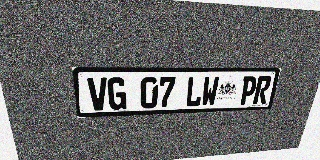0: (140, 77, 158, 109)
7: (157, 77, 176, 108)
G: (107, 77, 126, 110)
L: (185, 77, 204, 107)
P: (238, 76, 258, 105)
R: (252, 76, 272, 104)
V: (87, 77, 108, 111)
W: (201, 76, 220, 106)
